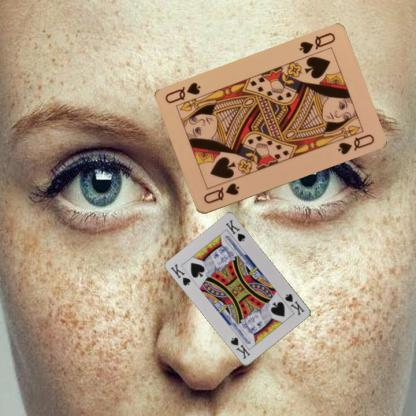Ks: (168, 261, 193, 287), (283, 291, 306, 317)
Qs: (200, 180, 240, 206), (296, 30, 336, 56)
